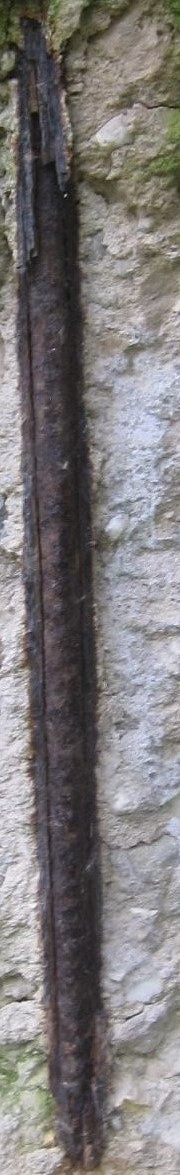Exposed reinforcement: (10, 15, 106, 1175)
